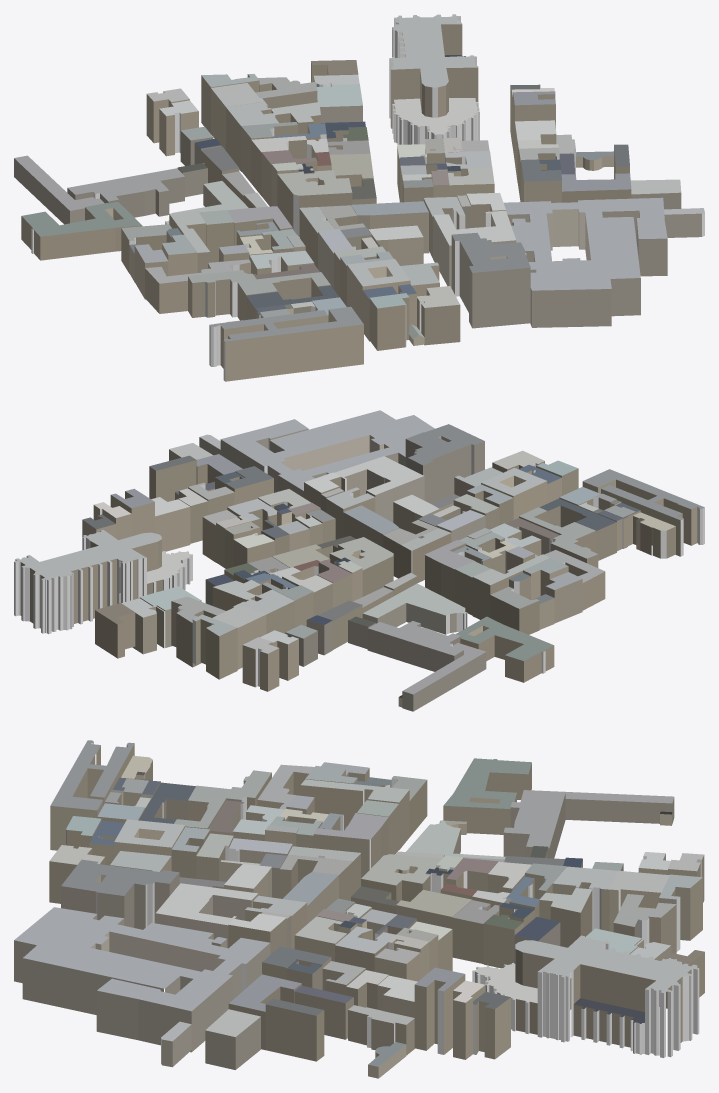
The picture shows the model from 3 angles, top to bottom: view 1: azimuth 30°, elevation 25°; view 2: azimuth 150°, elevation 25°; view 3: azimuth 270°, elevation 25°; orthographic projection. The views are drawn at different scales.
Visible parts, largest first — view 1: tuile; view 2: tuile; view 3: tuile.
Boxes of the visible parts, box(x1,y1,x2,y2) form: tuile: box(14, 14, 704, 381); tuile: box(14, 410, 704, 711); tuile: box(14, 740, 704, 1078).
Size of the model in its own units: 276 by 32.68 by 276.
